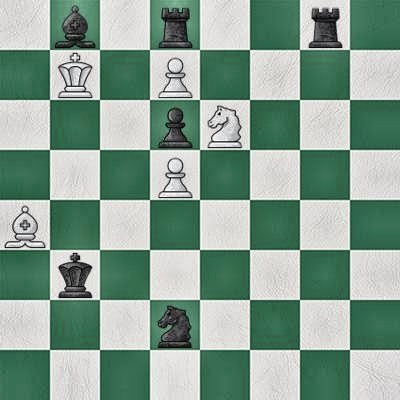black-bishop: (50, 0, 100, 50)
black-king: (50, 250, 100, 300)
black-knight: (150, 300, 200, 350)
black-pawn: (150, 100, 200, 150)
black-rook: (150, 0, 200, 50), (300, 0, 350, 50)
white-bishop: (0, 200, 50, 250)
white-king: (50, 50, 100, 100)
white-knight: (200, 100, 250, 150)
white-pawn: (150, 50, 200, 100), (150, 150, 200, 200)
